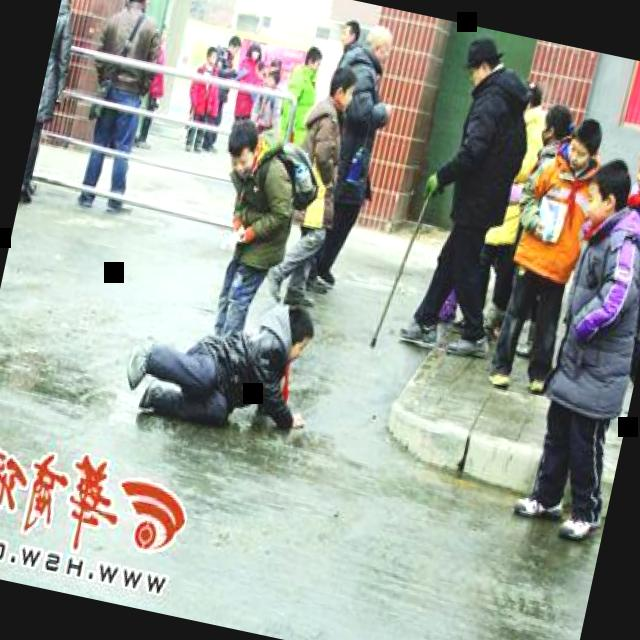Fall-Detected: (114, 262, 348, 462)
